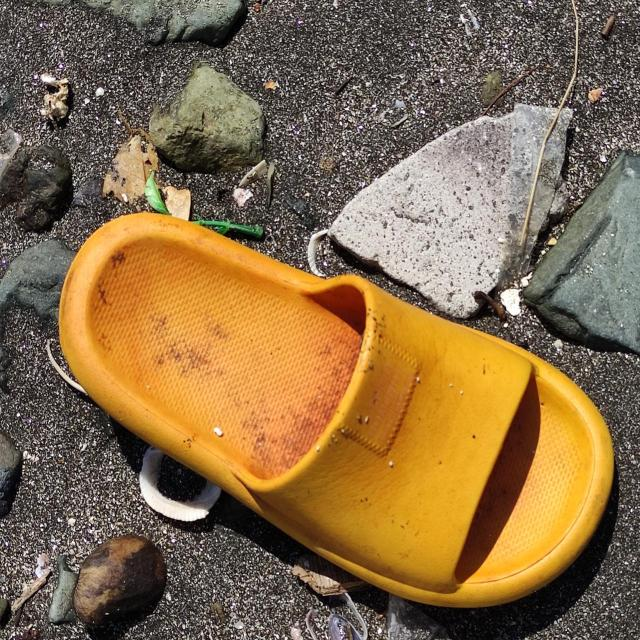rubber_waste: (54, 216, 619, 629)
